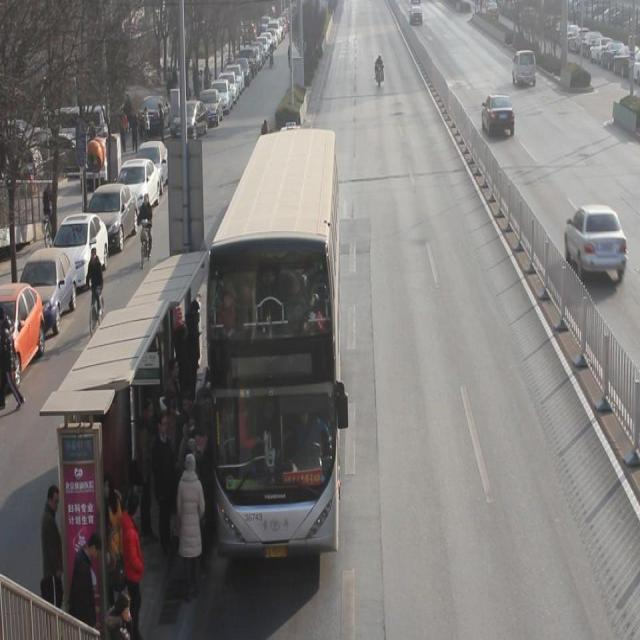car: (565, 206, 623, 285), (482, 94, 516, 138), (409, 1, 424, 27)
truck: (512, 48, 537, 88)
van: (204, 126, 340, 551)
